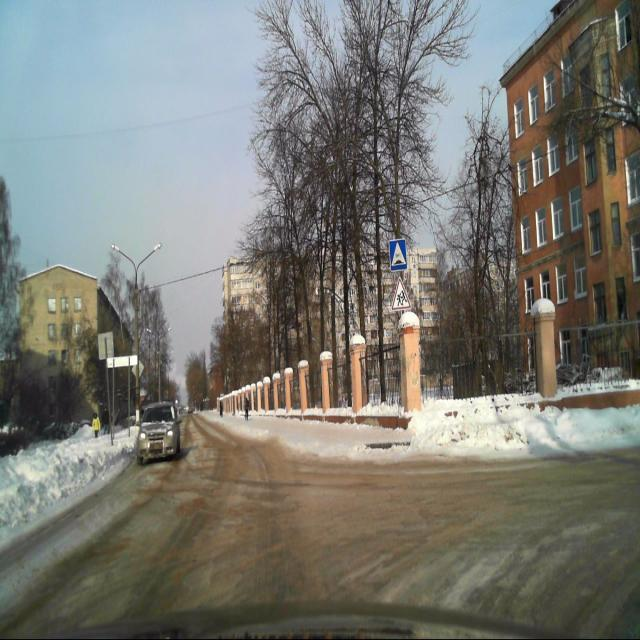road sign: (388, 239, 407, 271), (392, 276, 410, 309)
